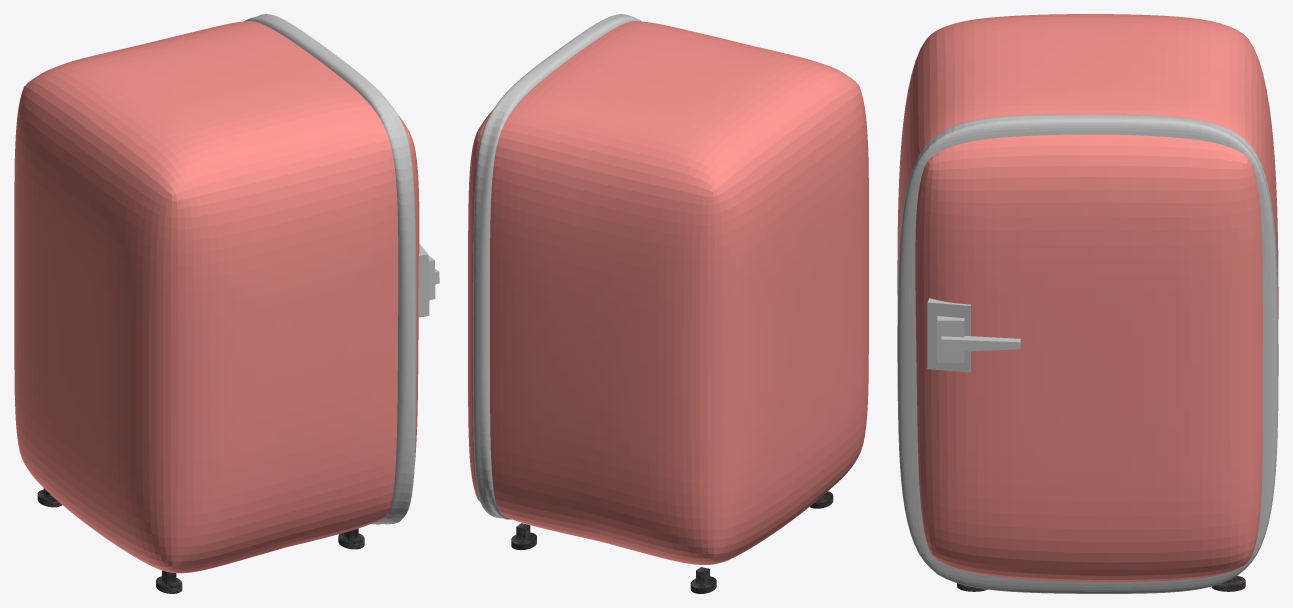
The model's file is Fridge.fbx.
3 renders of one model, left to right at view 1: azimuth 30°, elevation 25°; view 2: azimuth 150°, elevation 25°; view 3: azimuth 270°, elevation 25°, orthographic. The views are drawn at different scales.
Visible parts, largest first — view 1: Cube, Cube.005, Cube.006; view 2: Cube, Cube.005; view 3: Cube, Cube.005, Cube.006, Cube.008, Cube.007.
Boxes of the visible parts, bbox=[...] form: Cube: bbox=[14, 21, 419, 573]; Cube.005: bbox=[244, 14, 416, 524]; Cube.006: bbox=[418, 243, 429, 317]; Cube: bbox=[468, 21, 868, 564]; Cube.005: bbox=[473, 14, 641, 519]; Cube: bbox=[897, 14, 1278, 581]; Cube.005: bbox=[897, 114, 1278, 593]; Cube.006: bbox=[927, 298, 970, 372]; Cube.008: bbox=[941, 336, 1020, 352]; Cube.007: bbox=[937, 316, 964, 362].
Size of the model in its own units: 394 by 568 by 407.
